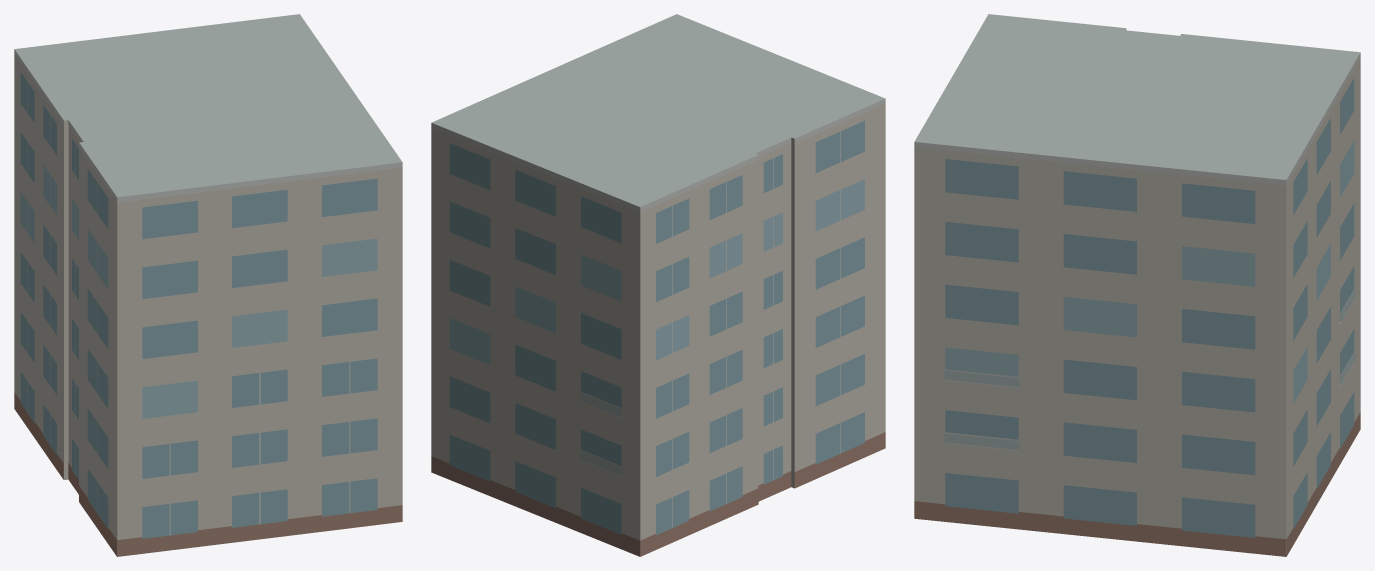
Rendered from survey-upis-32879269.glb.
3 renders of one model, left to right at view 1: azimuth 30°, elevation 25°; view 2: azimuth 150°, elevation 25°; view 3: azimuth 270°, elevation 25°, orthographic. The views are drawn at different scales.
Parts seen in each view (by area): view 1: survey-upis-32879269.tmp; view 2: survey-upis-32879269.tmp; view 3: survey-upis-32879269.tmp.
Part boxes in pixels (x1=…): survey-upis-32879269.tmp: x1=14, y1=14, x2=402, y2=556; survey-upis-32879269.tmp: x1=431, y1=14, x2=885, y2=556; survey-upis-32879269.tmp: x1=914, y1=14, x2=1360, y2=556.
Bounding box in the file's own units: 15.7 × 16.6 × 17.83.
